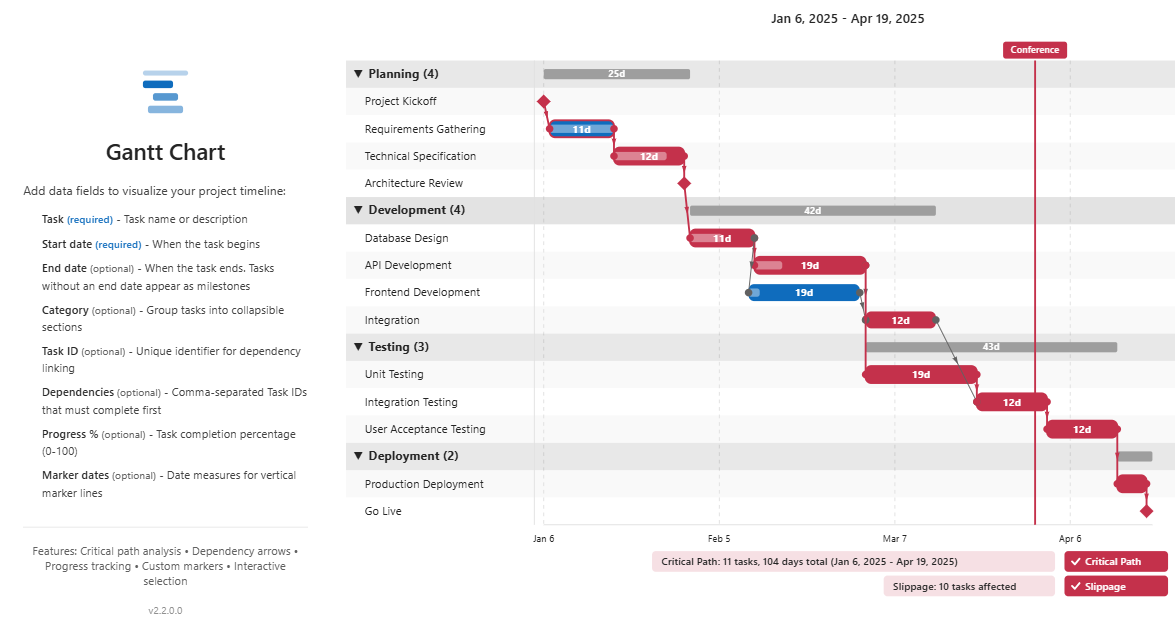

Layout of this report page (visuals, bound fields, positions):
{"tool":"powerbi","page":{"name":"Gantt","canvas":[1280,720],"ordinal":2},"visuals":[{"type":"gantt51446F686266453390398E5631FF15A1","fields":{"task":["Software project.Task"],"startDate":["Software project.Start"],"endDate":["Software project.End"],"resource":["Software project.Resource"],"context":["Software project.Dependencies"],"category":["Software project.Category"]},"box":[28,16,1136,667.9],"z":0}]}

Visuals, with their boxes on the page's 1280x720 design canvas (x1, y1, x2, y2). These are canvas units, not pixel positions in the 1175x637 screenshot, which may show the page scaled, cropped or inside an application window:
gantt51446F686266453390398E5631FF15A1 - Software project.Task x Software project.Start: locate(28, 16, 1164, 684)
